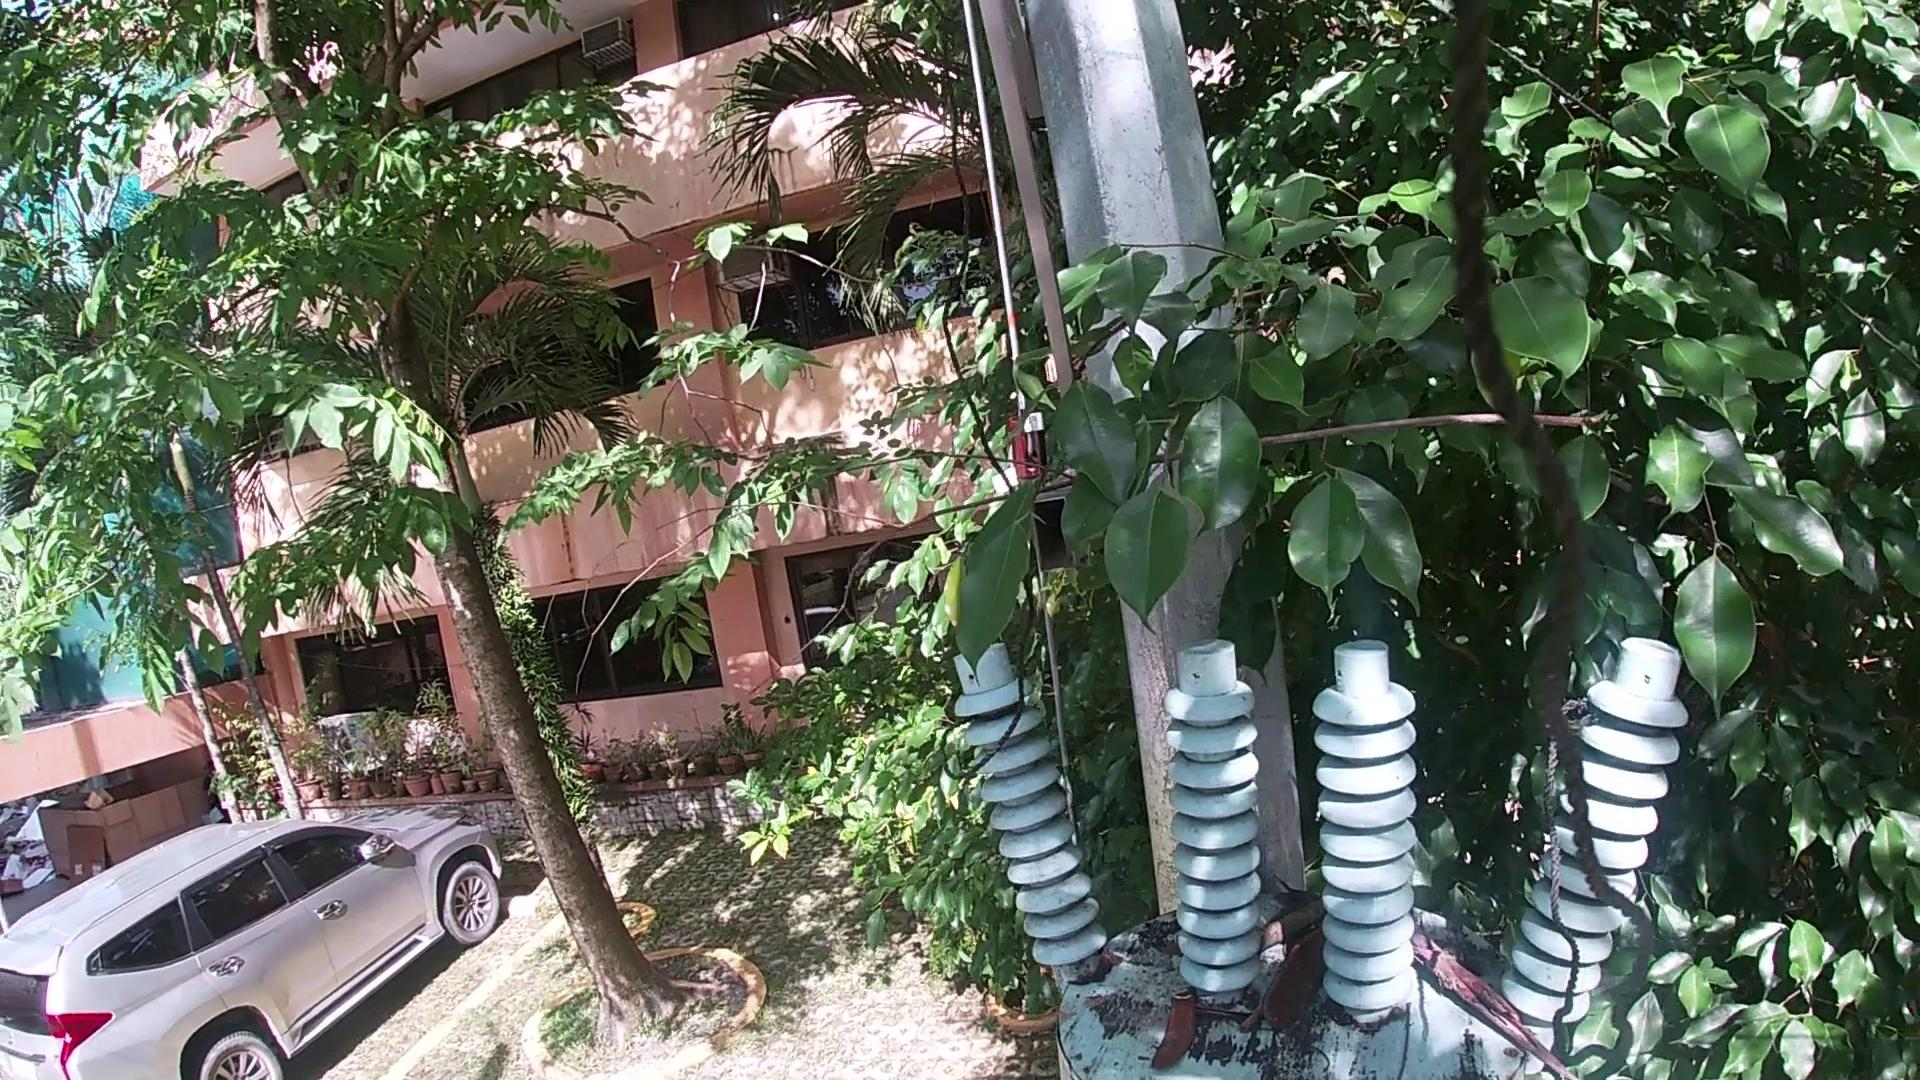leaf: (1208, 1004, 1242, 1023)
mahogany fruit: (1262, 932, 1336, 1038), (1153, 990, 1193, 1073)
tree branch: (535, 393, 1640, 781), (1414, 934, 1597, 1077), (1259, 891, 1337, 956), (1234, 1006, 1259, 1042)
